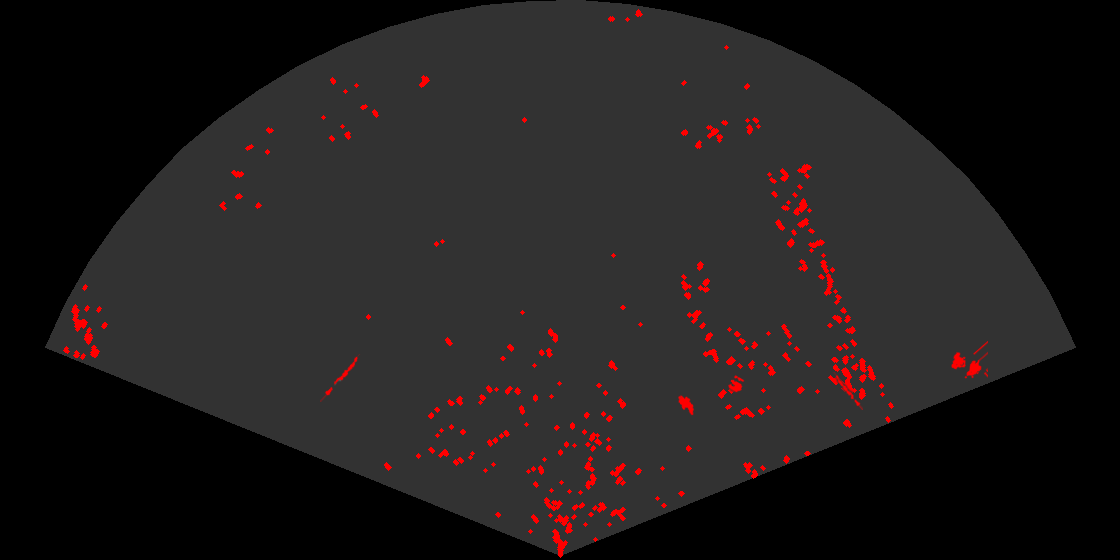AUV: (677, 394, 696, 417)
ball: (727, 374, 746, 394)
cage: (950, 341, 988, 380)
chain: (320, 354, 362, 402), (831, 372, 863, 410)
